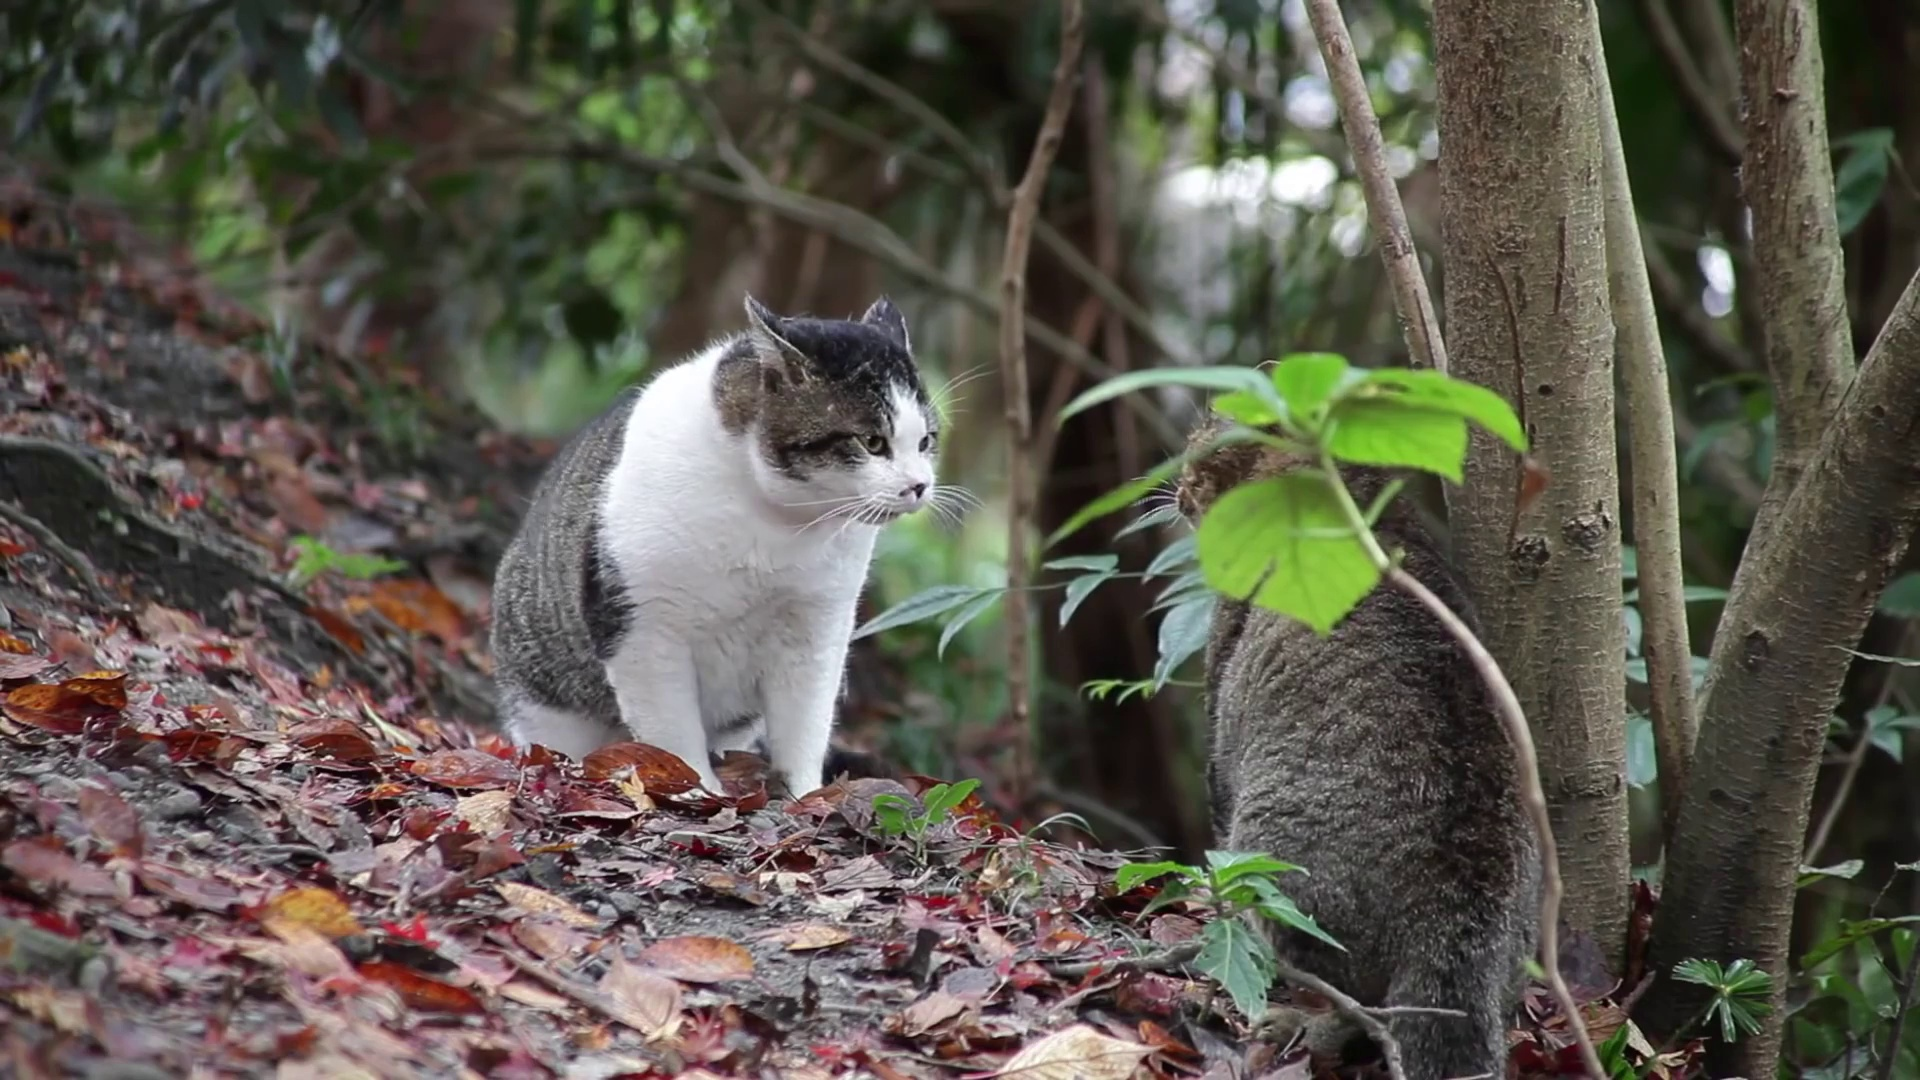black-white: (485, 287, 942, 799)
pure black: (1174, 355, 1538, 1080)
